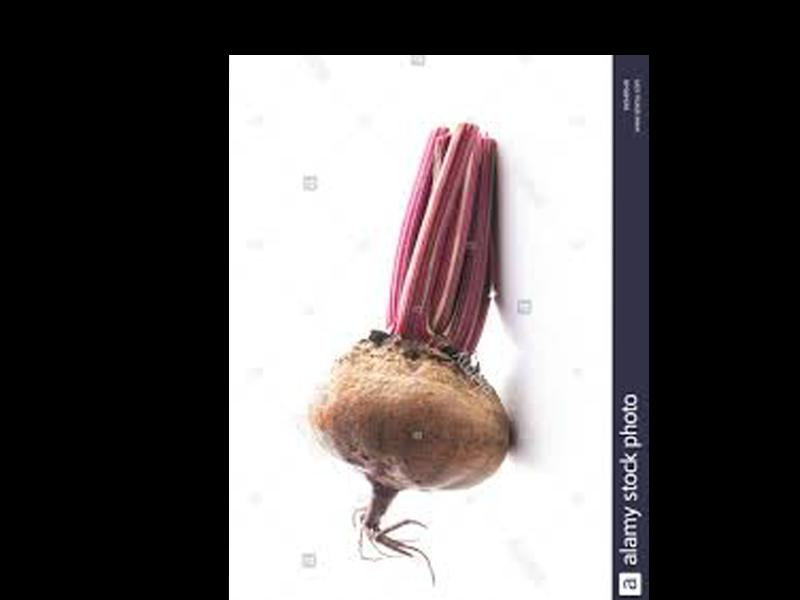Beet: (309, 122, 511, 586)
